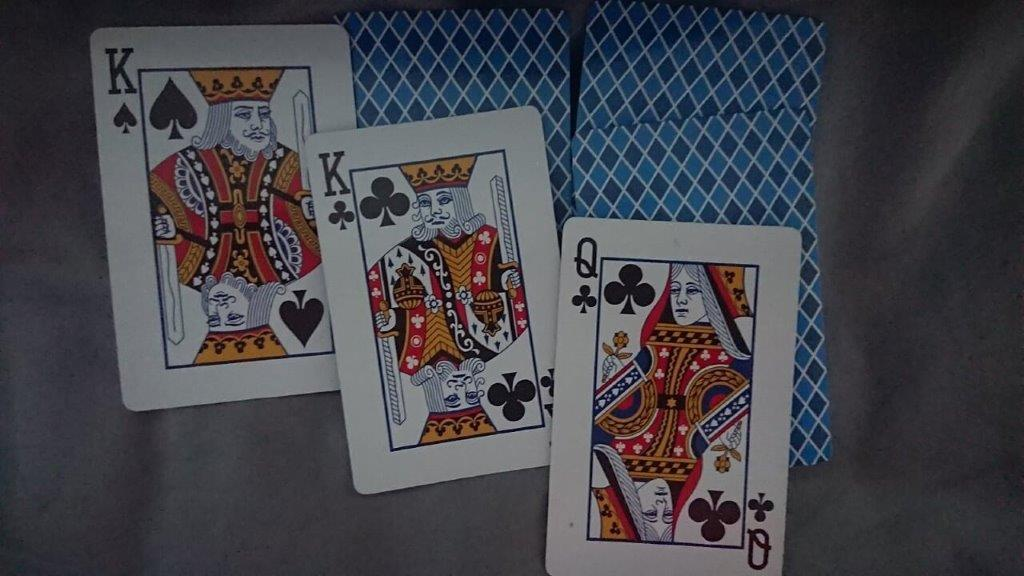BACK: (570, 108, 819, 219), (577, 1, 828, 109), (358, 8, 573, 105)
KC: (310, 139, 371, 244)
KS: (100, 33, 151, 144)
QC: (567, 221, 608, 320)
